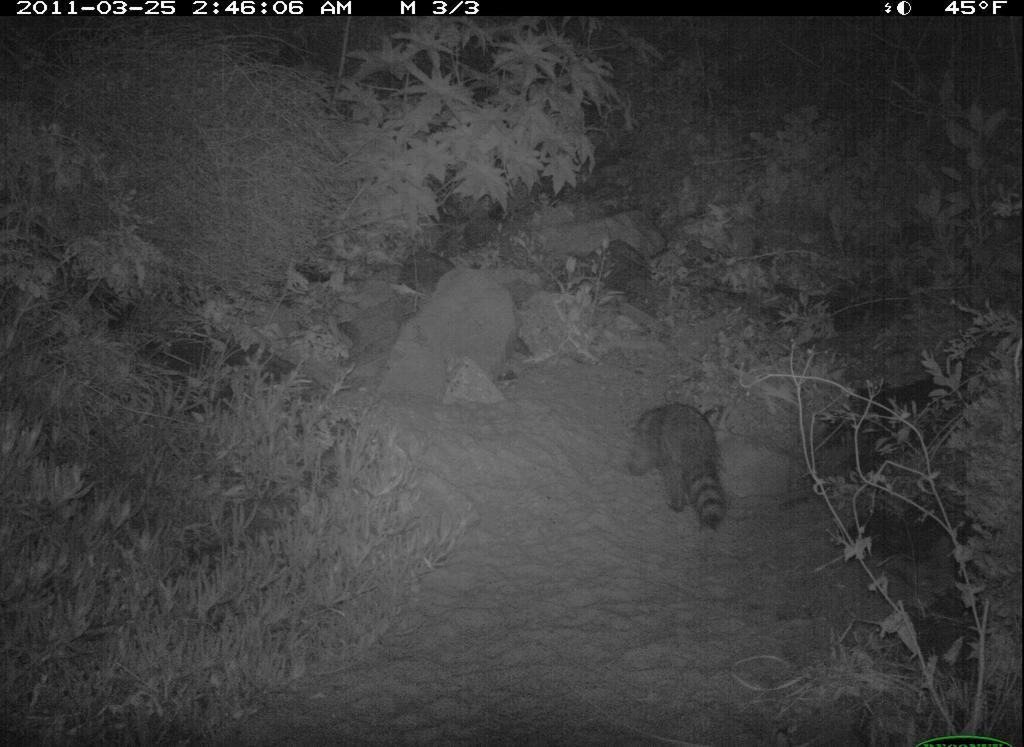raccoon: (625, 400, 733, 536)
